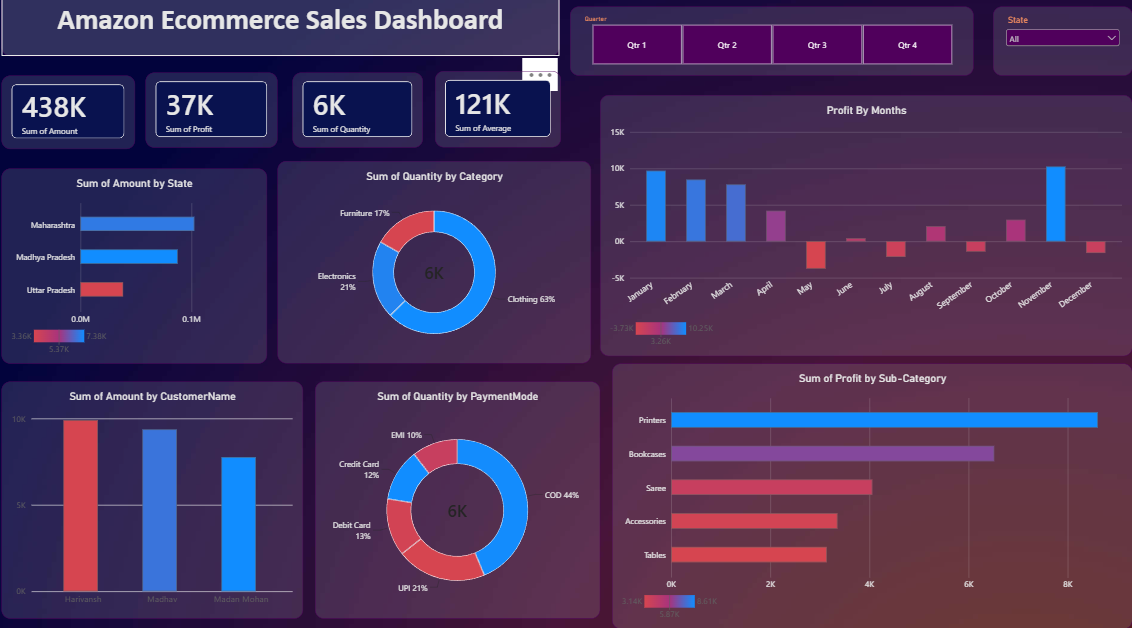

The page's visual inventory and layout, read from the dashboard file:
{"tool":"powerbi","page":{"name":"Page 1","canvas":[1920,1080],"ordinal":0},"visuals":[{"type":"textbox","box":[12.5,0,930,105],"z":0},{"type":"columnChart","title":"Profit By Months","fields":{"Category":["Orders.Oder Date.Variation.Date Hierarchy.Month"],"Y":["Sum(Details.Profit)"]},"box":[1010,170,887.5,435],"z":1000},{"type":"barChart","fields":{"Category":["Details.Sub-Category"],"Y":["Sum(Details.Profit)"]},"box":[1030,617.5,867.5,442.5],"z":2000},{"type":"donutChart","fields":{"Category":["Details.Category"],"Y":["Sum(Details.Quantity)"]},"box":[472.5,280,522.5,337.5],"z":3000},{"type":"donutChart","fields":{"Category":["Details.PaymentMode"],"Y":["Sum(Details.Quantity)"]},"box":[535,647.5,475,395],"z":4000},{"type":"cardVisual","fields":{"Data":["Sum(Details.Amount)"]},"box":[12.5,137.5,222.5,122.5],"z":5000},{"type":"cardVisual","fields":{"Data":["Sum(Details.Quantity)"]},"box":[497.5,132.5,217.5,125],"z":6000},{"type":"cardVisual","fields":{"Data":["Sum(Details.Profit)"]},"box":[252.5,132.5,220,125],"z":7000},{"type":"cardVisual","fields":{"Data":["Sum(Details.Average)"]},"box":[735,130,210,127.5],"z":8000},{"type":"barChart","fields":{"Category":["Orders.State"],"Y":["Sum(Details.Amount)"]},"box":[12.5,292.5,442.5,325],"z":9000},{"type":"columnChart","fields":{"Category":["Orders.CustomerName"],"Y":["Sum(Details.Amount)"]},"box":[12.5,647.5,502.5,395],"z":10000},{"type":"slicer","fields":{"Values":["Orders.Oder Date.Variation.Date Hierarchy.Quarter"]},"box":[960,22.5,672.5,115],"z":11000},{"type":"slicer","fields":{"Values":["Orders.State"]},"box":[1665,22.5,232.5,115],"z":12000}]}

Visuals, with their boxes in screenshot pixels (x1, y1, x2, y2), scaled from the page's 1920x1080 canvas onto the 1132x628 screenshot:
textbox: <region>7, 0, 556, 61</region>
"Profit By Months" columnChart: <region>595, 99, 1119, 352</region>
barChart - Details.Sub-Category x Sum(Details.Profit): <region>607, 359, 1119, 616</region>
donutChart - Details.Category x Sum(Details.Quantity): <region>279, 163, 587, 359</region>
donutChart - Details.PaymentMode x Sum(Details.Quantity): <region>315, 377, 595, 606</region>
cardVisual - Sum(Details.Amount): <region>7, 80, 139, 151</region>
cardVisual - Sum(Details.Quantity): <region>293, 77, 422, 150</region>
cardVisual - Sum(Details.Profit): <region>149, 77, 279, 150</region>
cardVisual - Sum(Details.Average): <region>433, 76, 557, 150</region>
barChart - Orders.State x Sum(Details.Amount): <region>7, 170, 268, 359</region>
columnChart - Orders.CustomerName x Sum(Details.Amount): <region>7, 377, 304, 606</region>
slicer - Orders.Oder Date.Variation.Date Hierarchy.Quarter: <region>566, 13, 962, 80</region>
slicer - Orders.State: <region>982, 13, 1119, 80</region>
